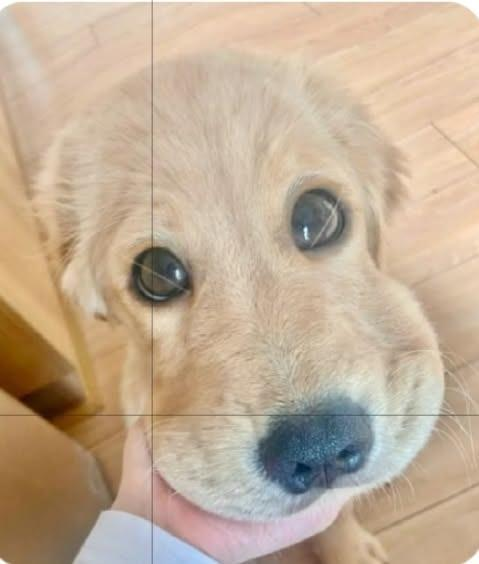puppy-dog: (33, 57, 446, 561)
